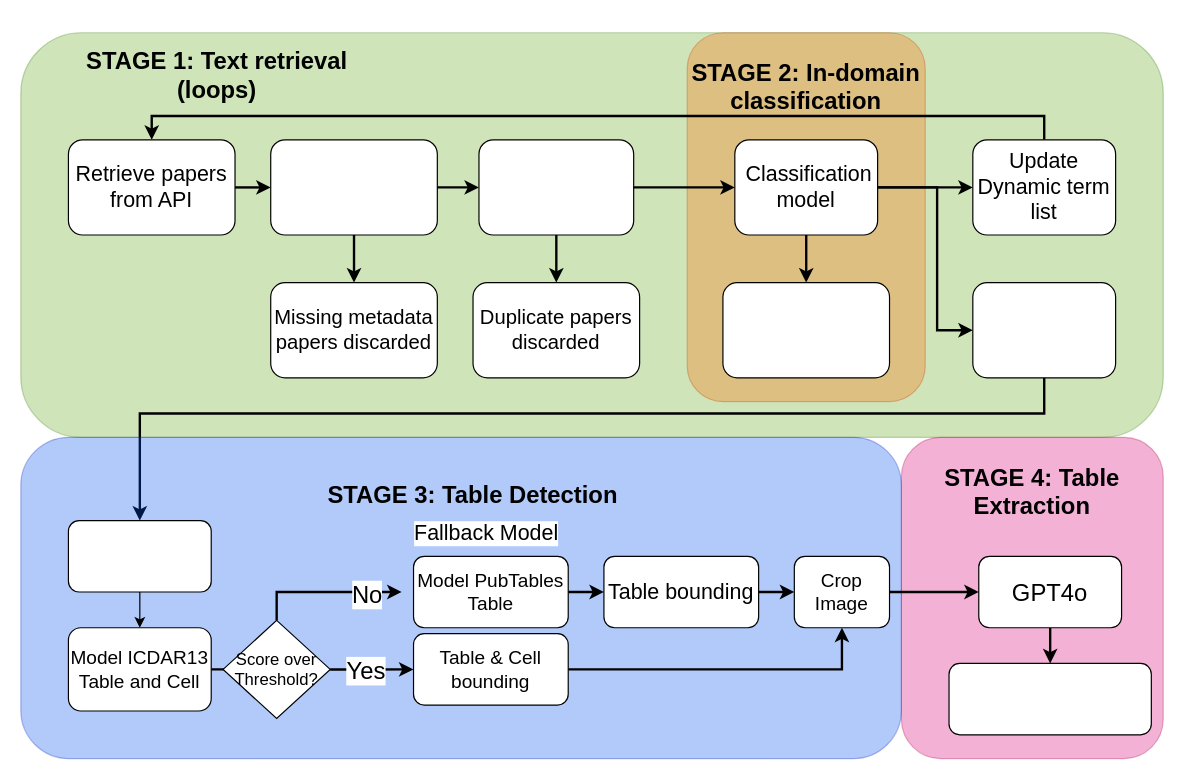
This 1202x779 diagram has some shape labels left out. The centre of each missing label's shape, as x and y in pixels:
"Convert PDF to PNG" goes at point (139, 555).
"CSV Table and Cell Content" goes at point (1049, 698).
"Deduplicate Papers" goes at point (556, 187).
"Non-oceanographic papers discarded" goes at point (806, 329).
"Upload papers to GCS" goes at point (1044, 329).
"Validate papers metadata" goes at point (353, 187).
